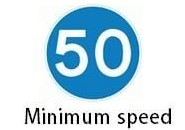Traffic signal: (44, 3, 144, 98)
